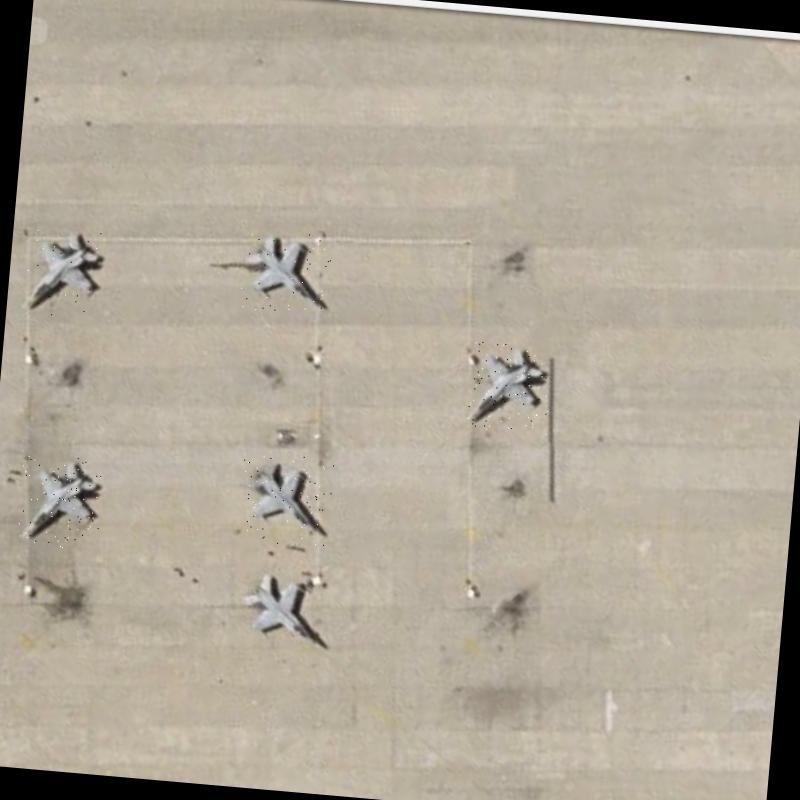A16: (226, 560, 331, 656), (235, 450, 334, 548), (16, 454, 106, 552), (236, 228, 334, 316), (467, 341, 554, 435), (24, 226, 104, 320)
